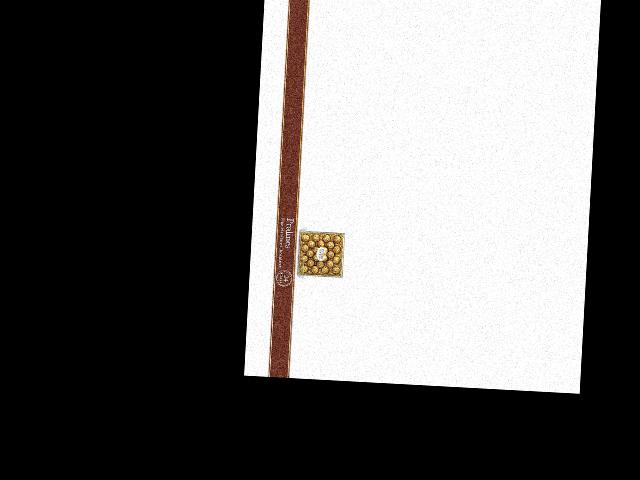chocolate: (294, 228, 348, 280)
